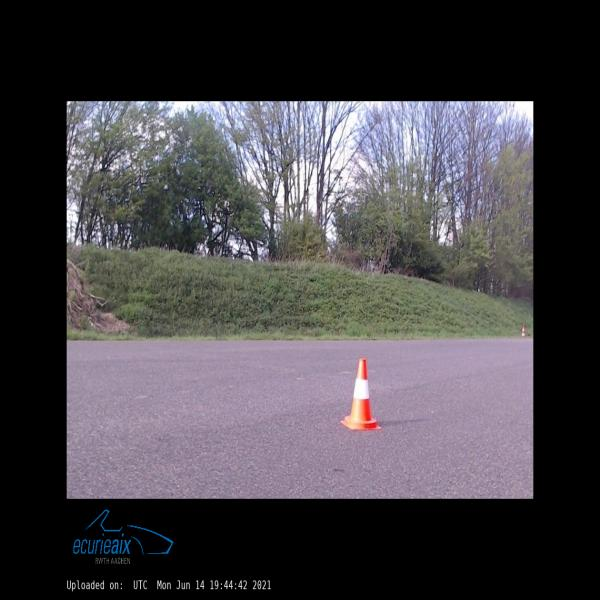large_orange_cone: (520, 324, 526, 338)
orange_cone: (340, 358, 382, 430)
